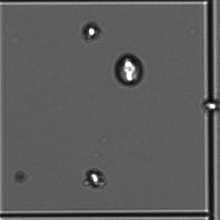Dead Cell: (14, 168, 28, 184)
Living Cell: (111, 51, 146, 88), (80, 20, 103, 44), (84, 167, 106, 189), (203, 97, 218, 113)
